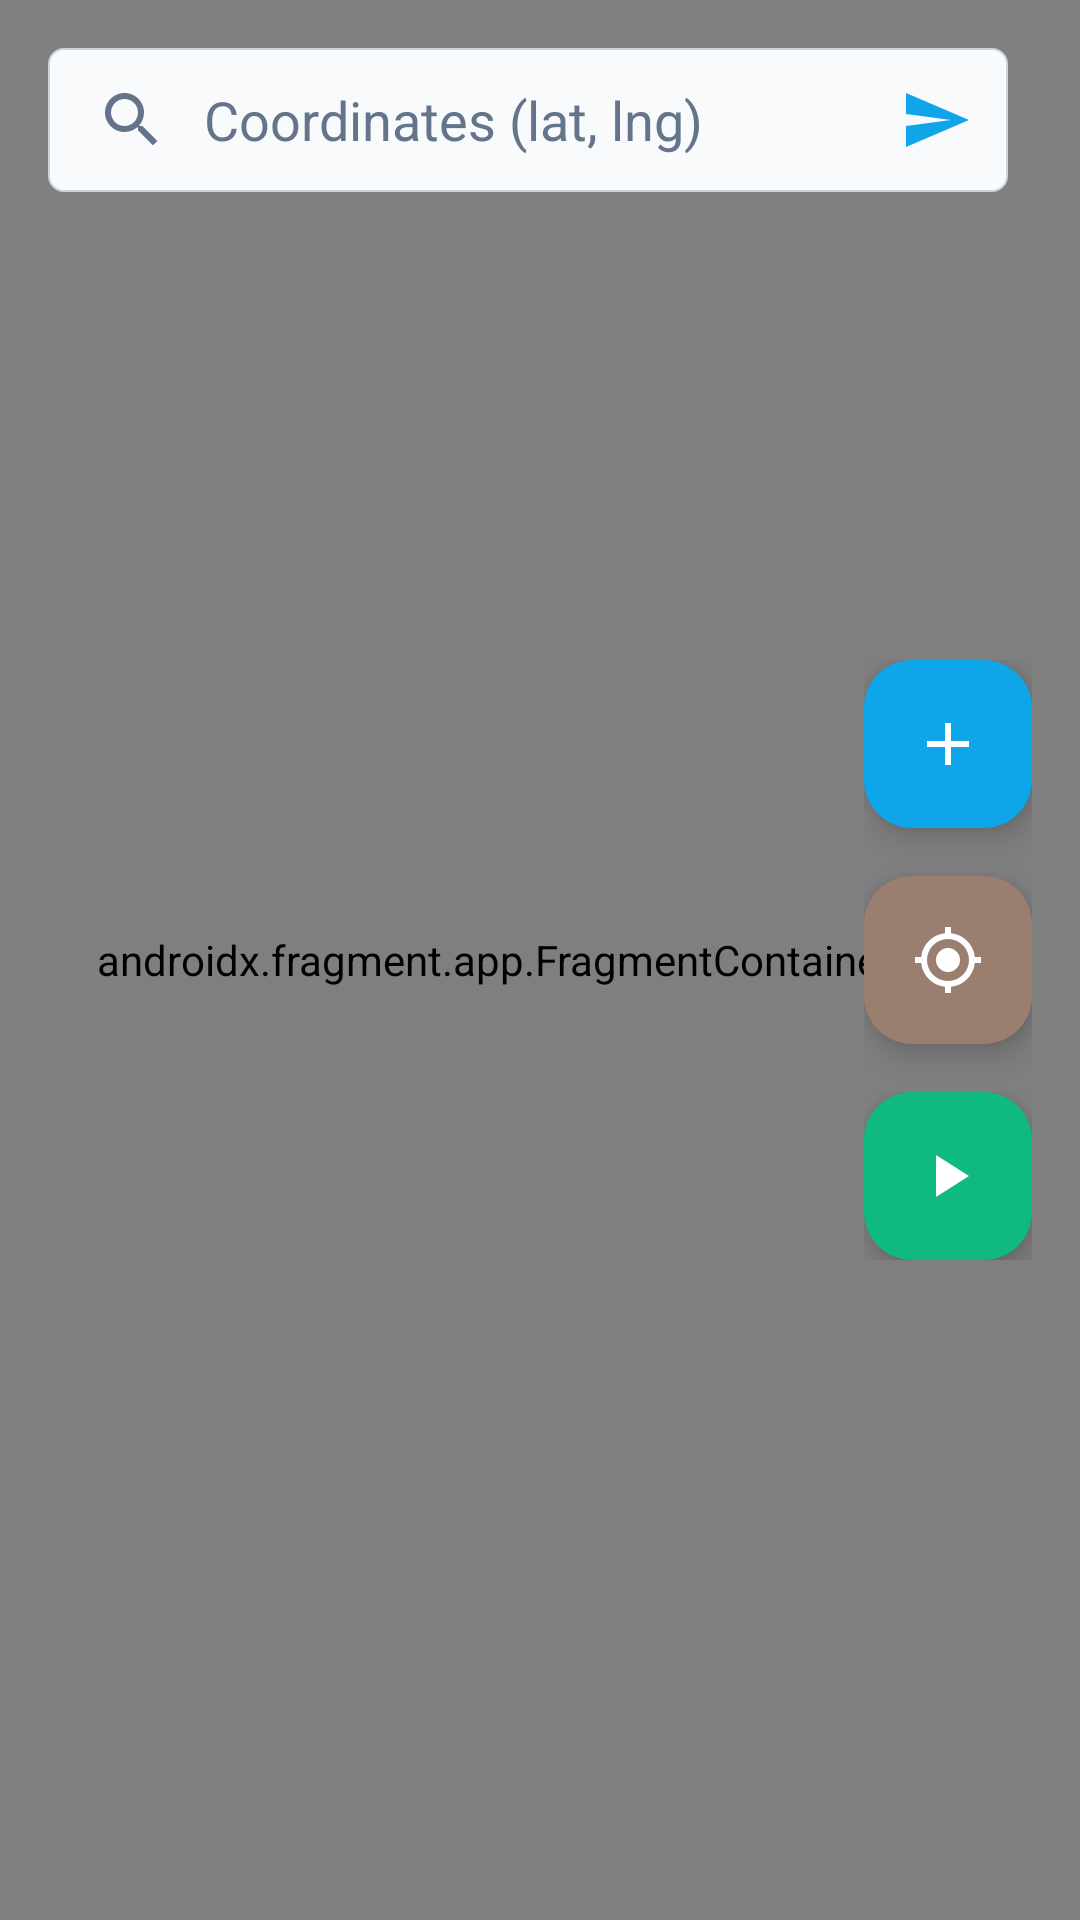

Screen size 1080w x 1920h. Icon name, then its box in pixels as (x1, y1, x2, y2):
add: (864, 660, 1032, 828)
location: (864, 876, 1032, 1044)
play arrow: (864, 1092, 1032, 1260)
Send: (864, 48, 1008, 192)
